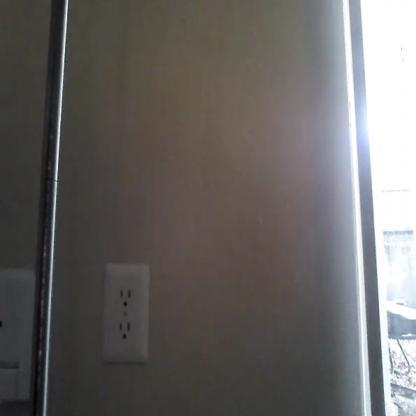OUTLET: (104, 262, 148, 363)
